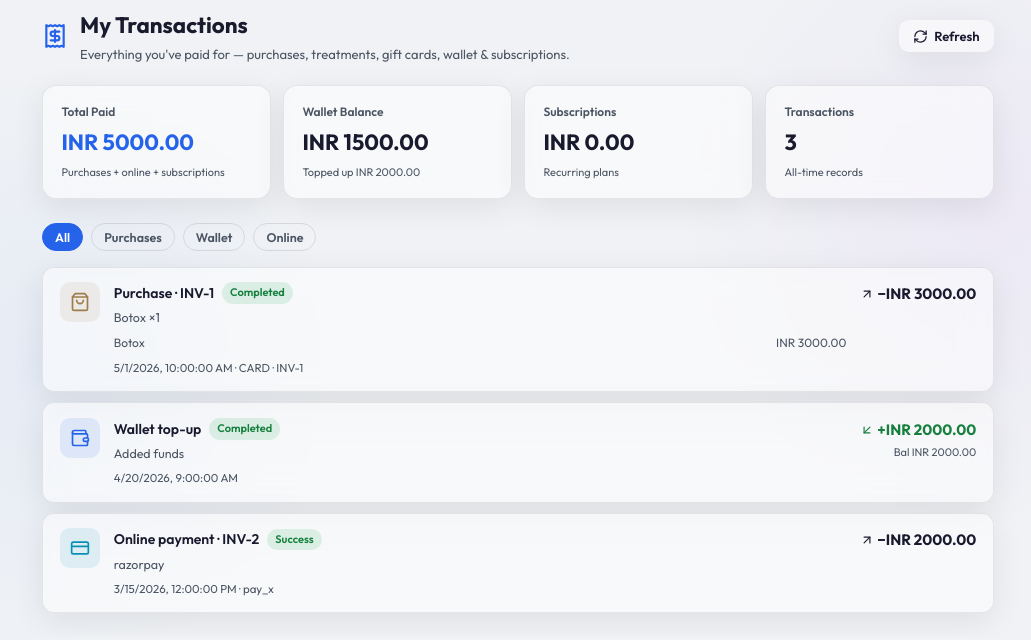
MyTransactions — category filter › clicking a category chip narrows the visible rows
The width and height of the screenshot is (1031, 640).
Expected: the element with test id "my-transactions-list" is shown, top-left (42, 267), bottom-right (994, 614)
Expected: the element with test id "my-transactions-row-sale-1" is shown, top-left (42, 267), bottom-right (994, 392)
Note: Filter to Wallet only.
Click the button with test id "my-transactions-filter-Wallet" at (214, 237), box top-left (183, 223), bottom-right (246, 251)
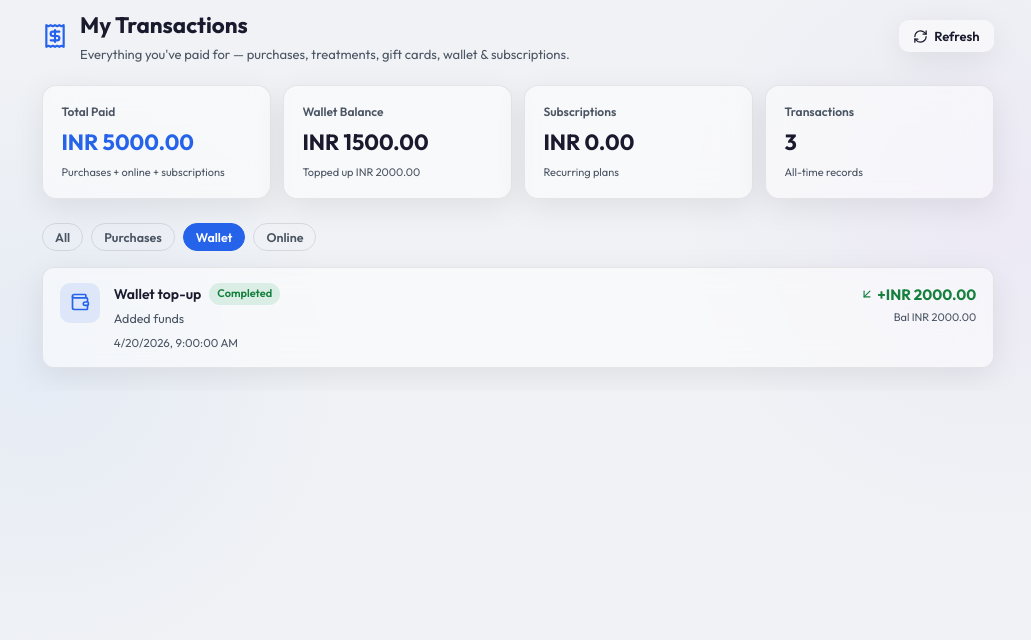
Expected: the element with test id "my-transactions-row-wallet-1" is shown, top-left (42, 267), bottom-right (994, 367)
Expected: the element with test id "my-transactions-row-sale-1" is gone
Expected: the element with test id "my-transactions-row-payment-1" is gone
Note: Back to ALL.
Click the button with test id "my-transactions-filter-ALL" at (63, 237), box top-left (42, 223), bottom-right (83, 251)
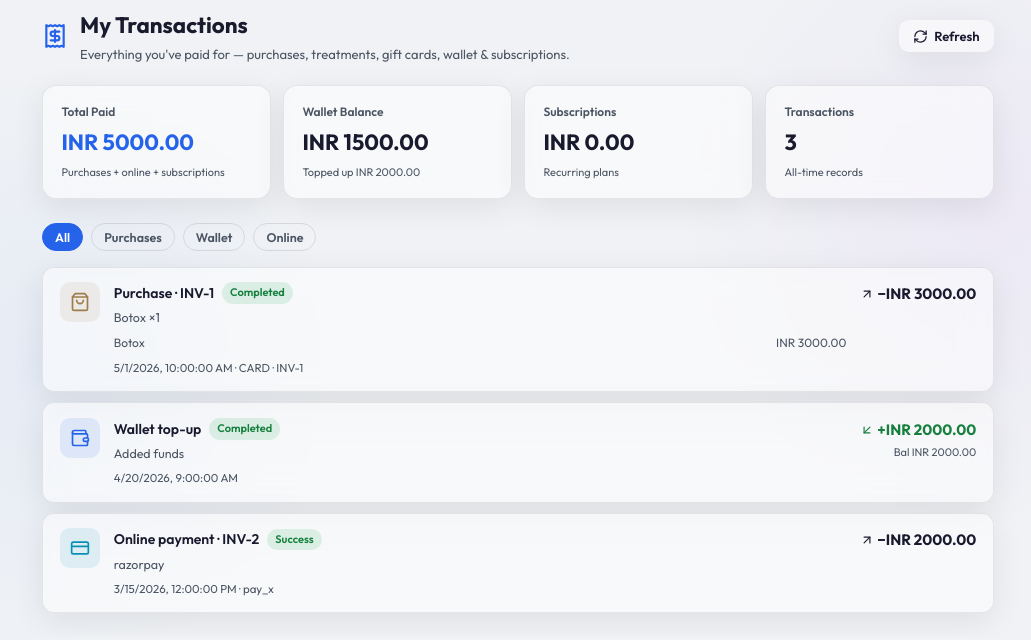
Expected: the element with test id "my-transactions-row-sale-1" is shown, top-left (42, 267), bottom-right (994, 392)
